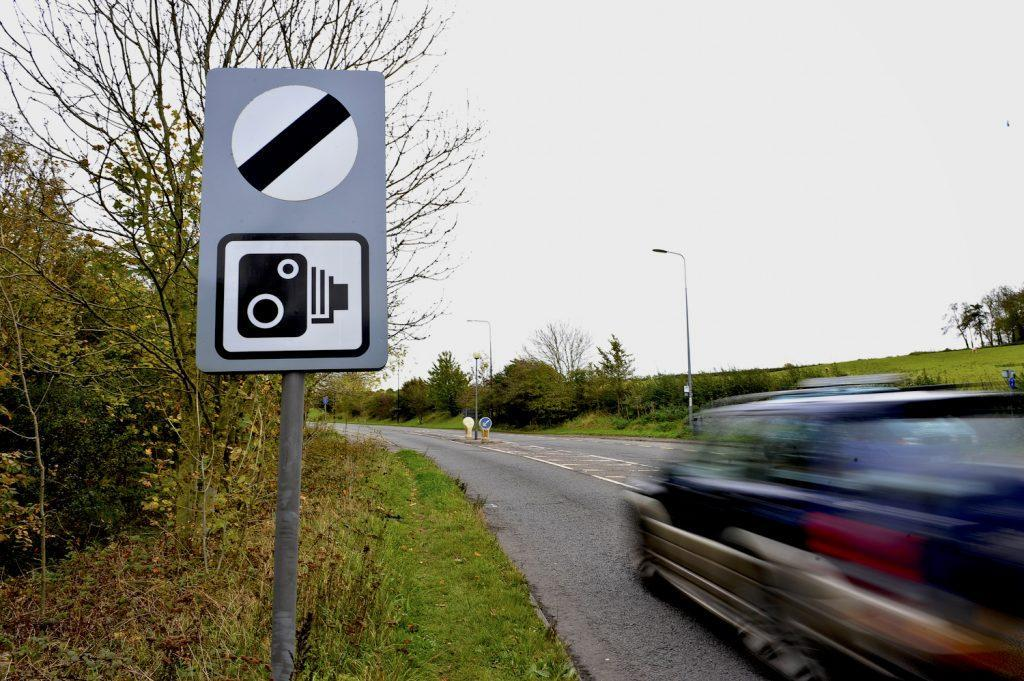indicator: (208, 65, 376, 365)
shadow: (662, 392, 1024, 681)
